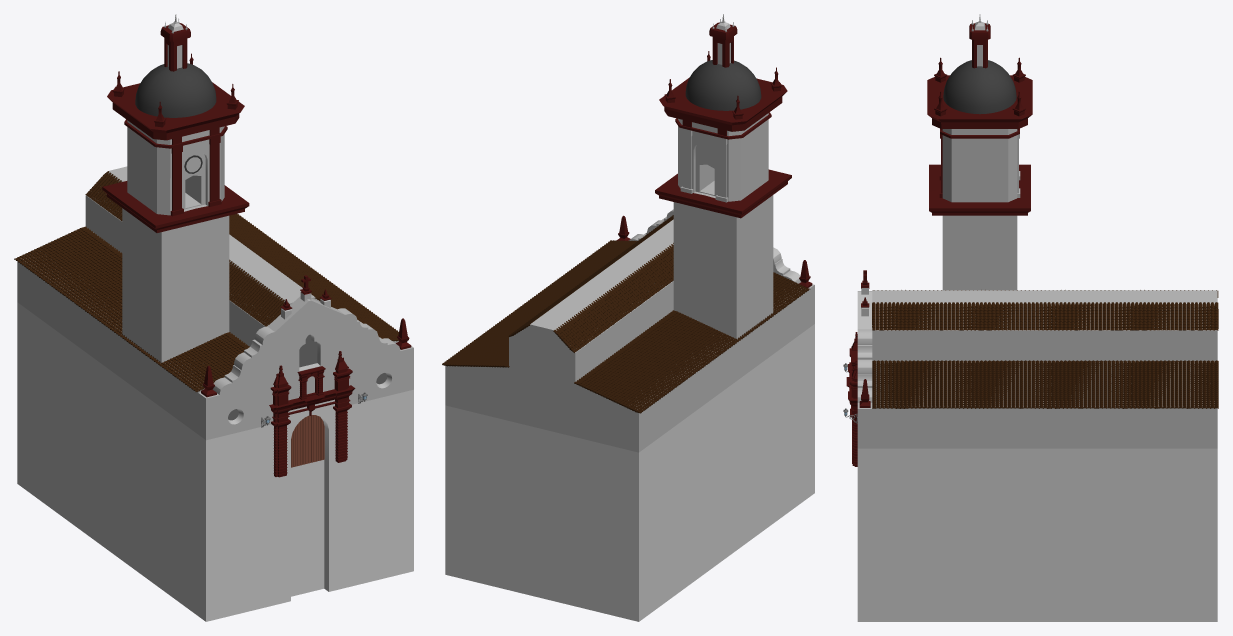
File: 9_Iglesia_Encarnacion_David_Leon.fbx
3 views of the same model, side by side, from view 1: azimuth 30°, elevation 25°; view 2: azimuth 150°, elevation 25°; view 3: azimuth 270°, elevation 25° (orthographic). The views are drawn at different scales.
Parts seen in each view (by area): view 1: Cube.074, Cube.068, Cube.073, Cube.048; view 2: Cube.074, Cube.068; view 3: Cube.074, Cube.068, Cube.073.
Part boxes in pixels (x1,y1,x2,y2): Cube.074: [17, 14, 413, 621]; Cube.068: [14, 171, 408, 391]; Cube.073: [269, 351, 355, 477]; Cube.048: [291, 415, 324, 467]; Cube.074: [445, 14, 814, 621]; Cube.068: [442, 215, 810, 413]; Cube.074: [857, 14, 1217, 621]; Cube.068: [872, 290, 1218, 408]; Cube.073: [846, 332, 857, 466].
Size of the model in its own units: 1596 by 3766 by 2431.
